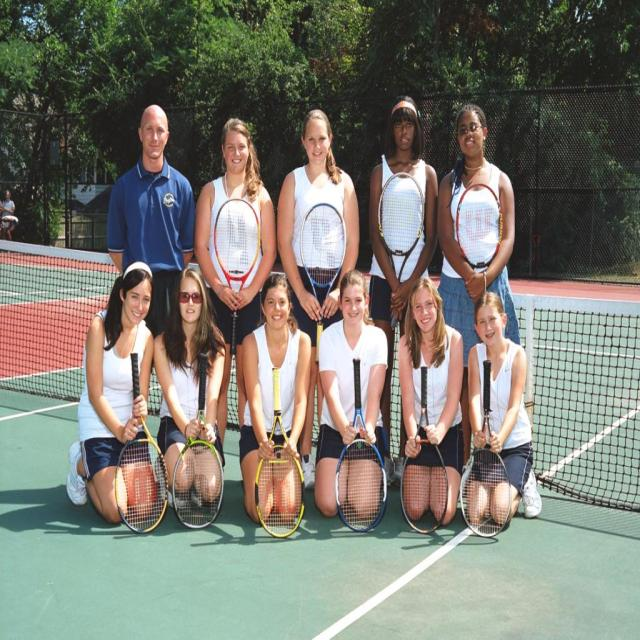Face: (138, 98, 174, 171), (122, 264, 154, 332), (303, 111, 337, 174), (222, 120, 255, 184), (174, 265, 208, 326), (455, 99, 488, 158), (409, 283, 442, 336), (389, 103, 419, 160), (263, 281, 292, 336), (339, 277, 369, 330), (472, 300, 504, 344)
